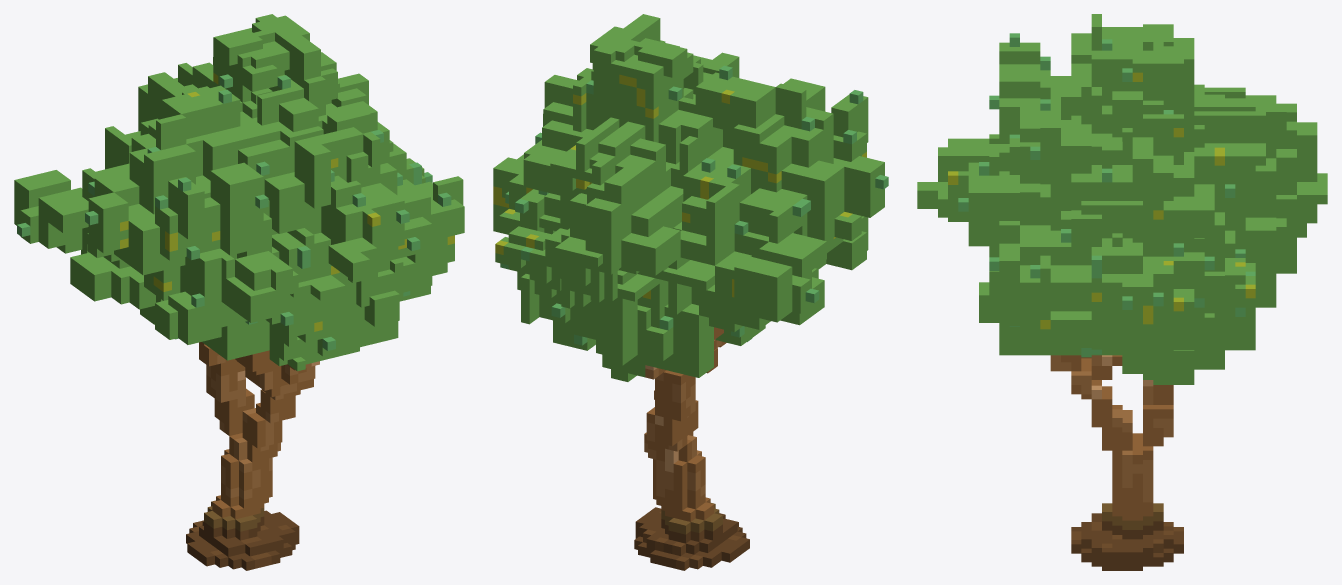
The model's file is 1_0 pit.obj.
The picture shows the model from 3 angles, left to right: view 1: azimuth 30°, elevation 25°; view 2: azimuth 150°, elevation 25°; view 3: azimuth 270°, elevation 25°; orthographic projection. The views are drawn at different scales.
Bounding box in the file's own units: 4.3 × 5.6 × 4.
Materials: 1 (1 with a texture image).
